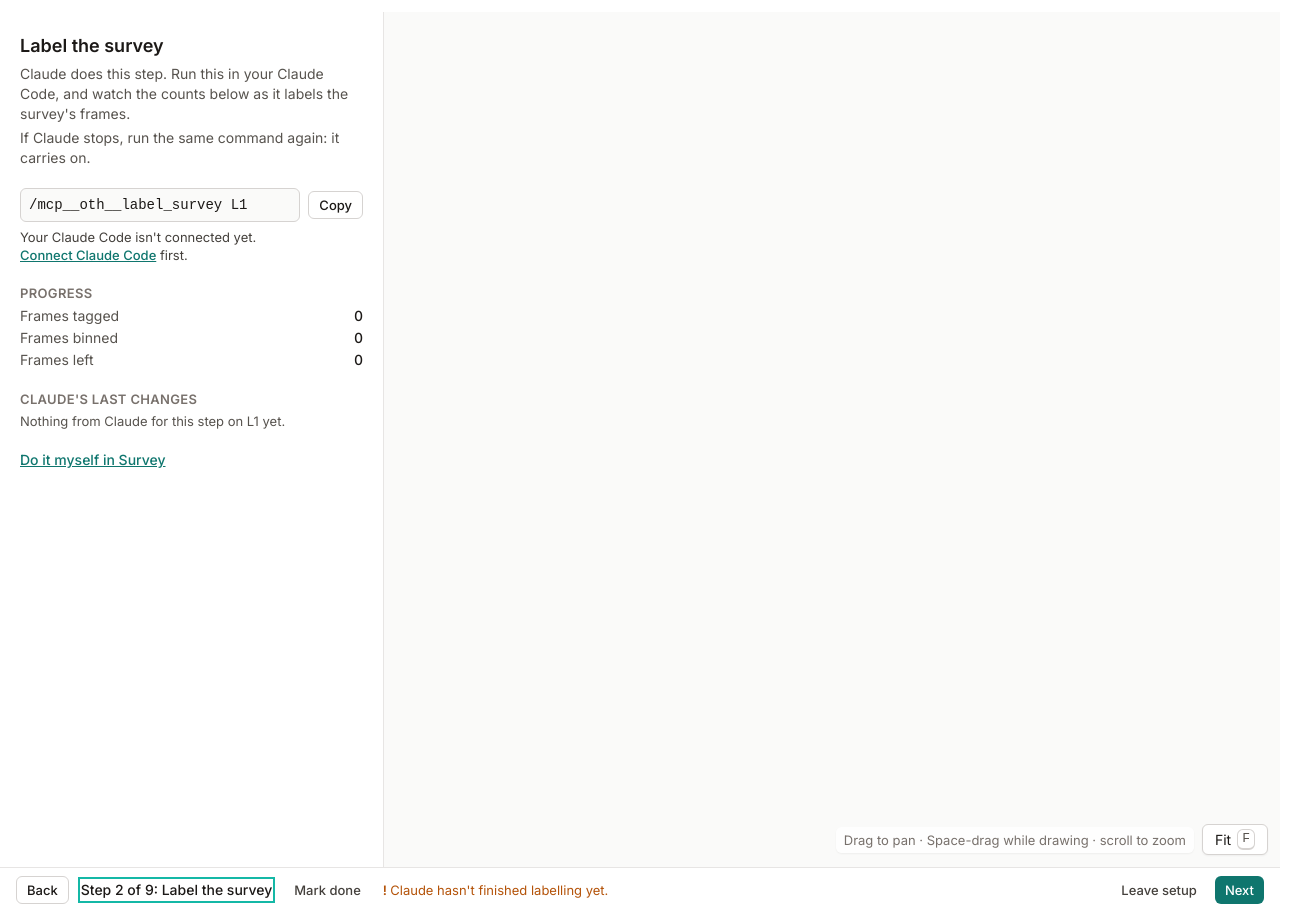
Test case: SetupWizard › records who marked a step done, from the setup the server answers with: no second load
Click the button "Mark done": point(328, 890) [284,876,371,904]
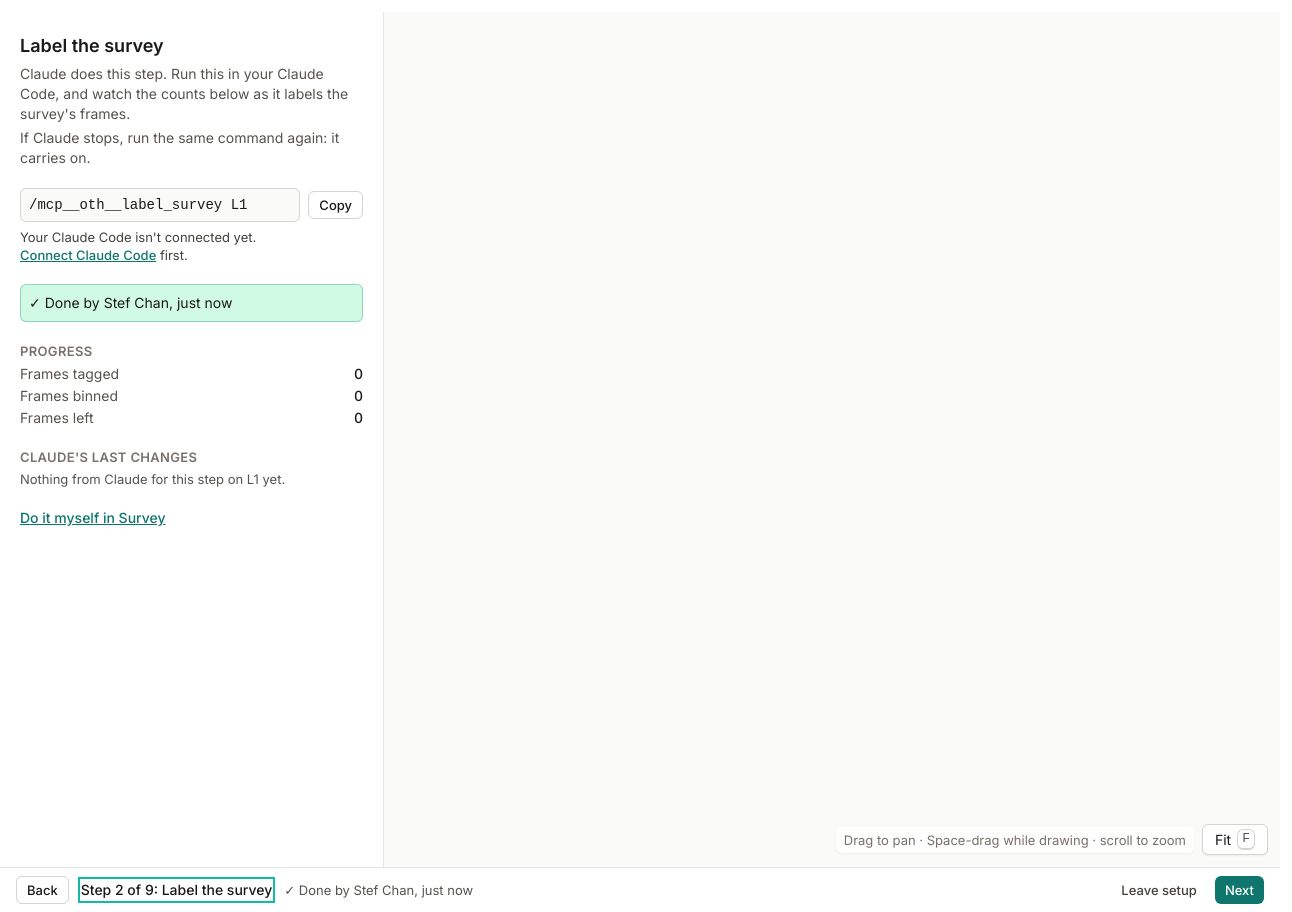
Check: the text "Done by Stef Chan, just now" in the row of "of" is shown, box [299,882,473,898]
